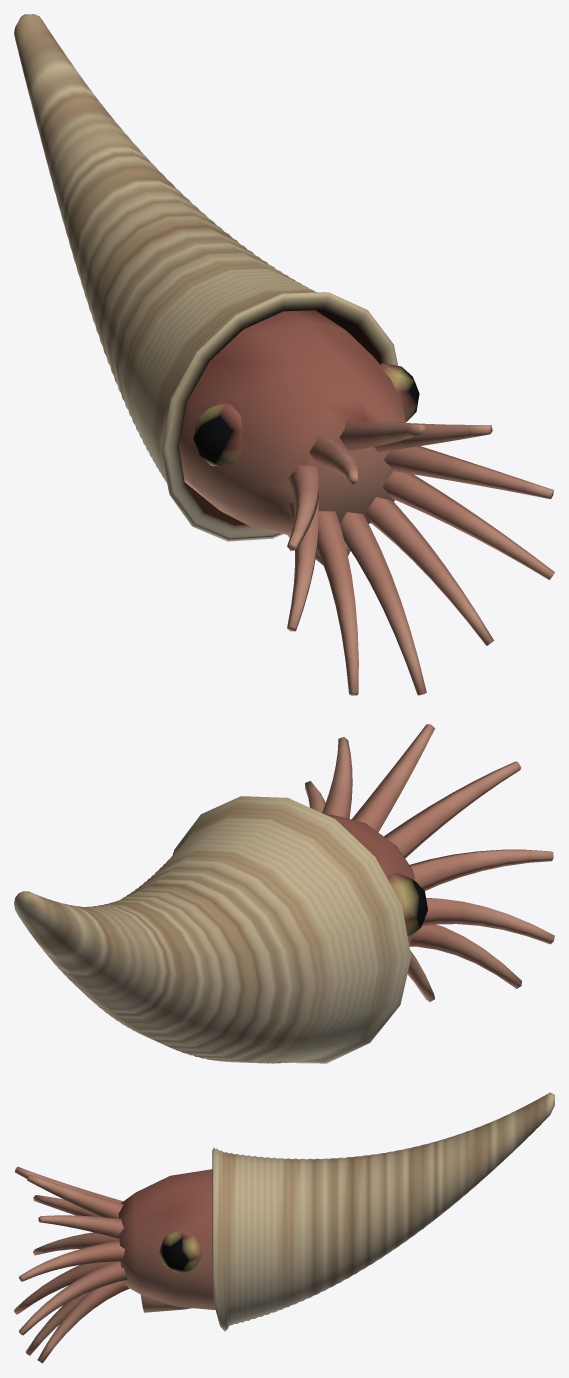
Rendered from Plectronoceras.fbx.
3 views of the same model, one above another, from view 1: azimuth 30°, elevation 25°; view 2: azimuth 150°, elevation 25°; view 3: azimuth 270°, elevation 25° (orthographic). The views are drawn at different scales.
Visible parts, largest first — view 1: Plectronoceras; view 2: Plectronoceras; view 3: Plectronoceras.
Boxes of the visible parts, x1=… form: Plectronoceras: x1=14, y1=14, x2=554, y2=695; Plectronoceras: x1=14, y1=724, x2=554, y2=1063; Plectronoceras: x1=14, y1=1092, x2=554, y2=1363.
Bounding box in the file's own units: 0.5725 × 0.8438 × 1.58.
